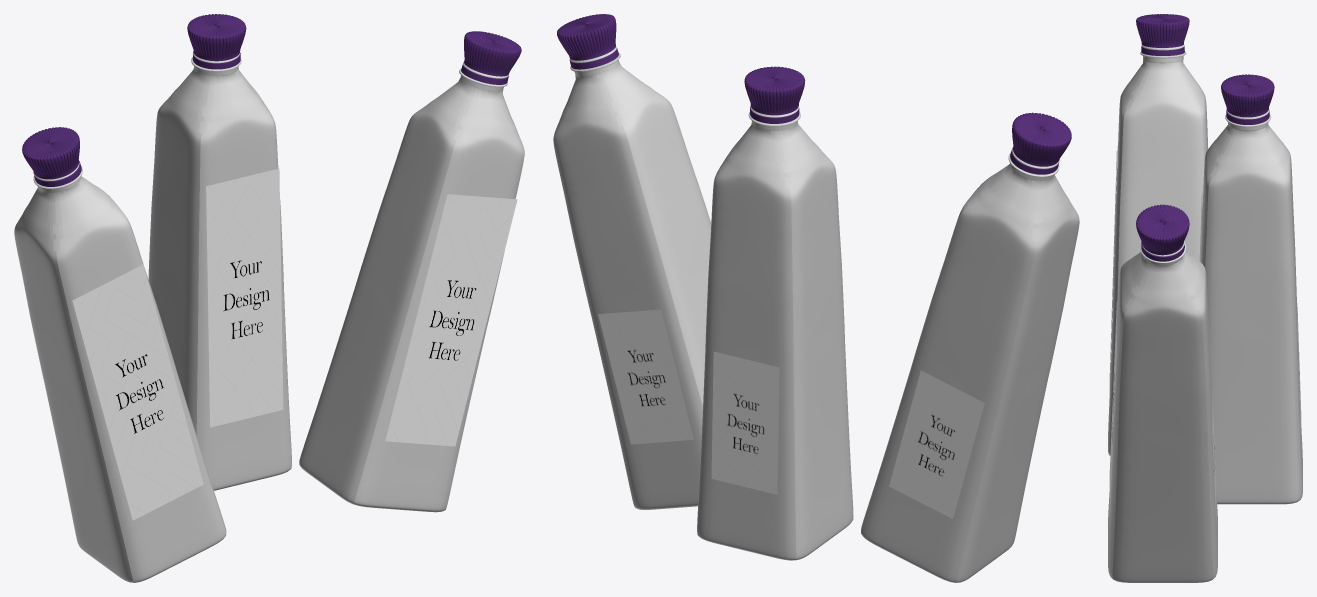
The model's file is Plastic Bottle A-5.glb.
3 renders of one model, left to right at view 1: azimuth 30°, elevation 25°; view 2: azimuth 150°, elevation 25°; view 3: azimuth 270°, elevation 25°, orthographic. The views are drawn at different scales.
Visible parts, largest first — view 1: bottle001.002, bottle001.001, bottle001, Plane.004, Plane.001, Plane.007, Mesh_1.001, Mesh_1, Mesh_1.002; view 2: bottle001, bottle001.001, bottle001.002, Plane.004, Plane.001, Plane.007, Mesh_1.001, Mesh_1, Mesh_1.002; view 3: bottle001, bottle001.002, bottle001.001, Mesh_1.002, Mesh_1, Mesh_1.001, Plane.007, Plane.001, Circle003001.001, Circle003001.
Boxes of the visible parts, <box> form: bottle001.002: <box>299,62,524,512</box>; bottle001.001: <box>14,162,226,582</box>; bottle001: <box>148,51,291,490</box>; Plane.004: <box>72,264,203,520</box>; Plane.001: <box>206,168,283,427</box>; Plane.007: <box>385,194,517,446</box>; Mesh_1.001: <box>22,127,79,179</box>; Mesh_1: <box>187,14,246,61</box>; Mesh_1.002: <box>464,31,521,76</box>; bottle001: <box>697,106,853,560</box>; bottle001.001: <box>861,148,1079,582</box>; bottle001.002: <box>553,46,711,509</box>; Plane.004: <box>889,370,984,518</box>; Plane.001: <box>711,351,779,494</box>; Plane.007: <box>598,309,693,444</box>; Mesh_1.001: <box>1012,112,1071,166</box>; Mesh_1: <box>744,66,805,115</box>; Mesh_1.002: <box>557,14,616,60</box>; bottle001: <box>1201,108,1302,504</box>; bottle001.002: <box>1108,240,1217,582</box>; bottle001.001: <box>1108,45,1208,455</box>; Mesh_1.002: <box>1136,204,1189,255</box>; Mesh_1: <box>1221,74,1274,117</box>; Mesh_1.001: <box>1136,14,1189,47</box>; Plane.007: <box>1109,302,1216,521</box>; Plane.001: <box>1199,196,1301,438</box>; Circle003001.001: <box>1141,46,1184,55</box>; Circle003001: <box>1226,110,1269,124</box>.
Size of the model in its own units: 3.7 by 3.38 by 1.4.
Materials: 4 (1 with a texture image).
